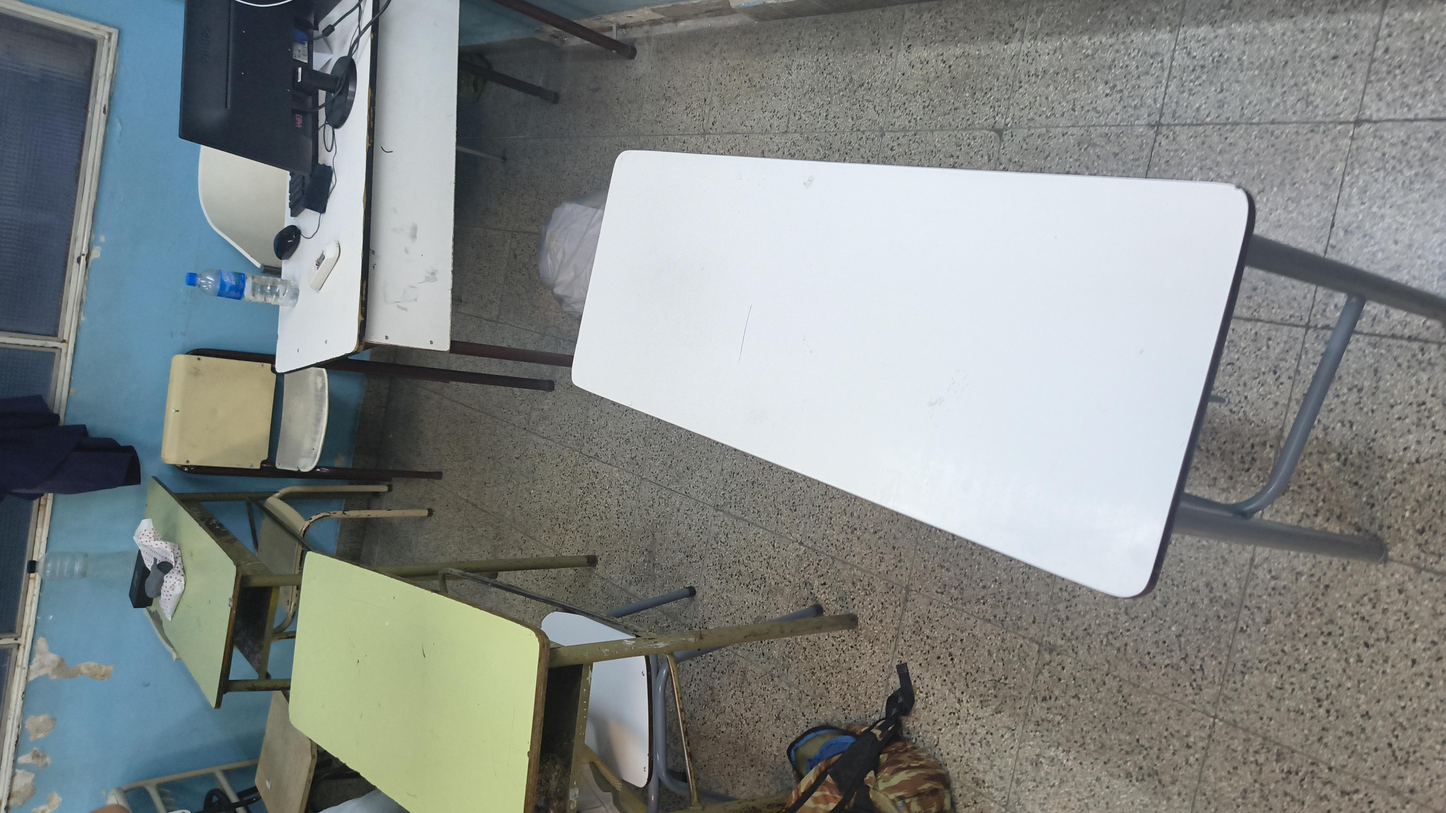Garbage: (860, 284, 1123, 349)
